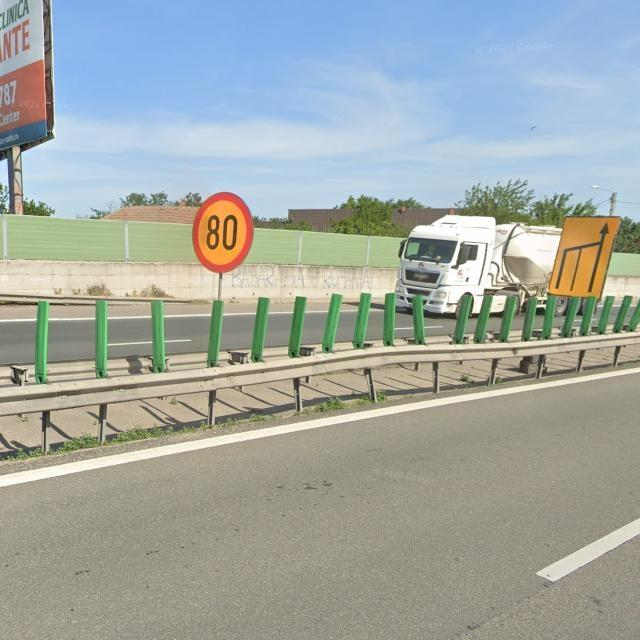forb_speed_over_80: (190, 191, 255, 274)
